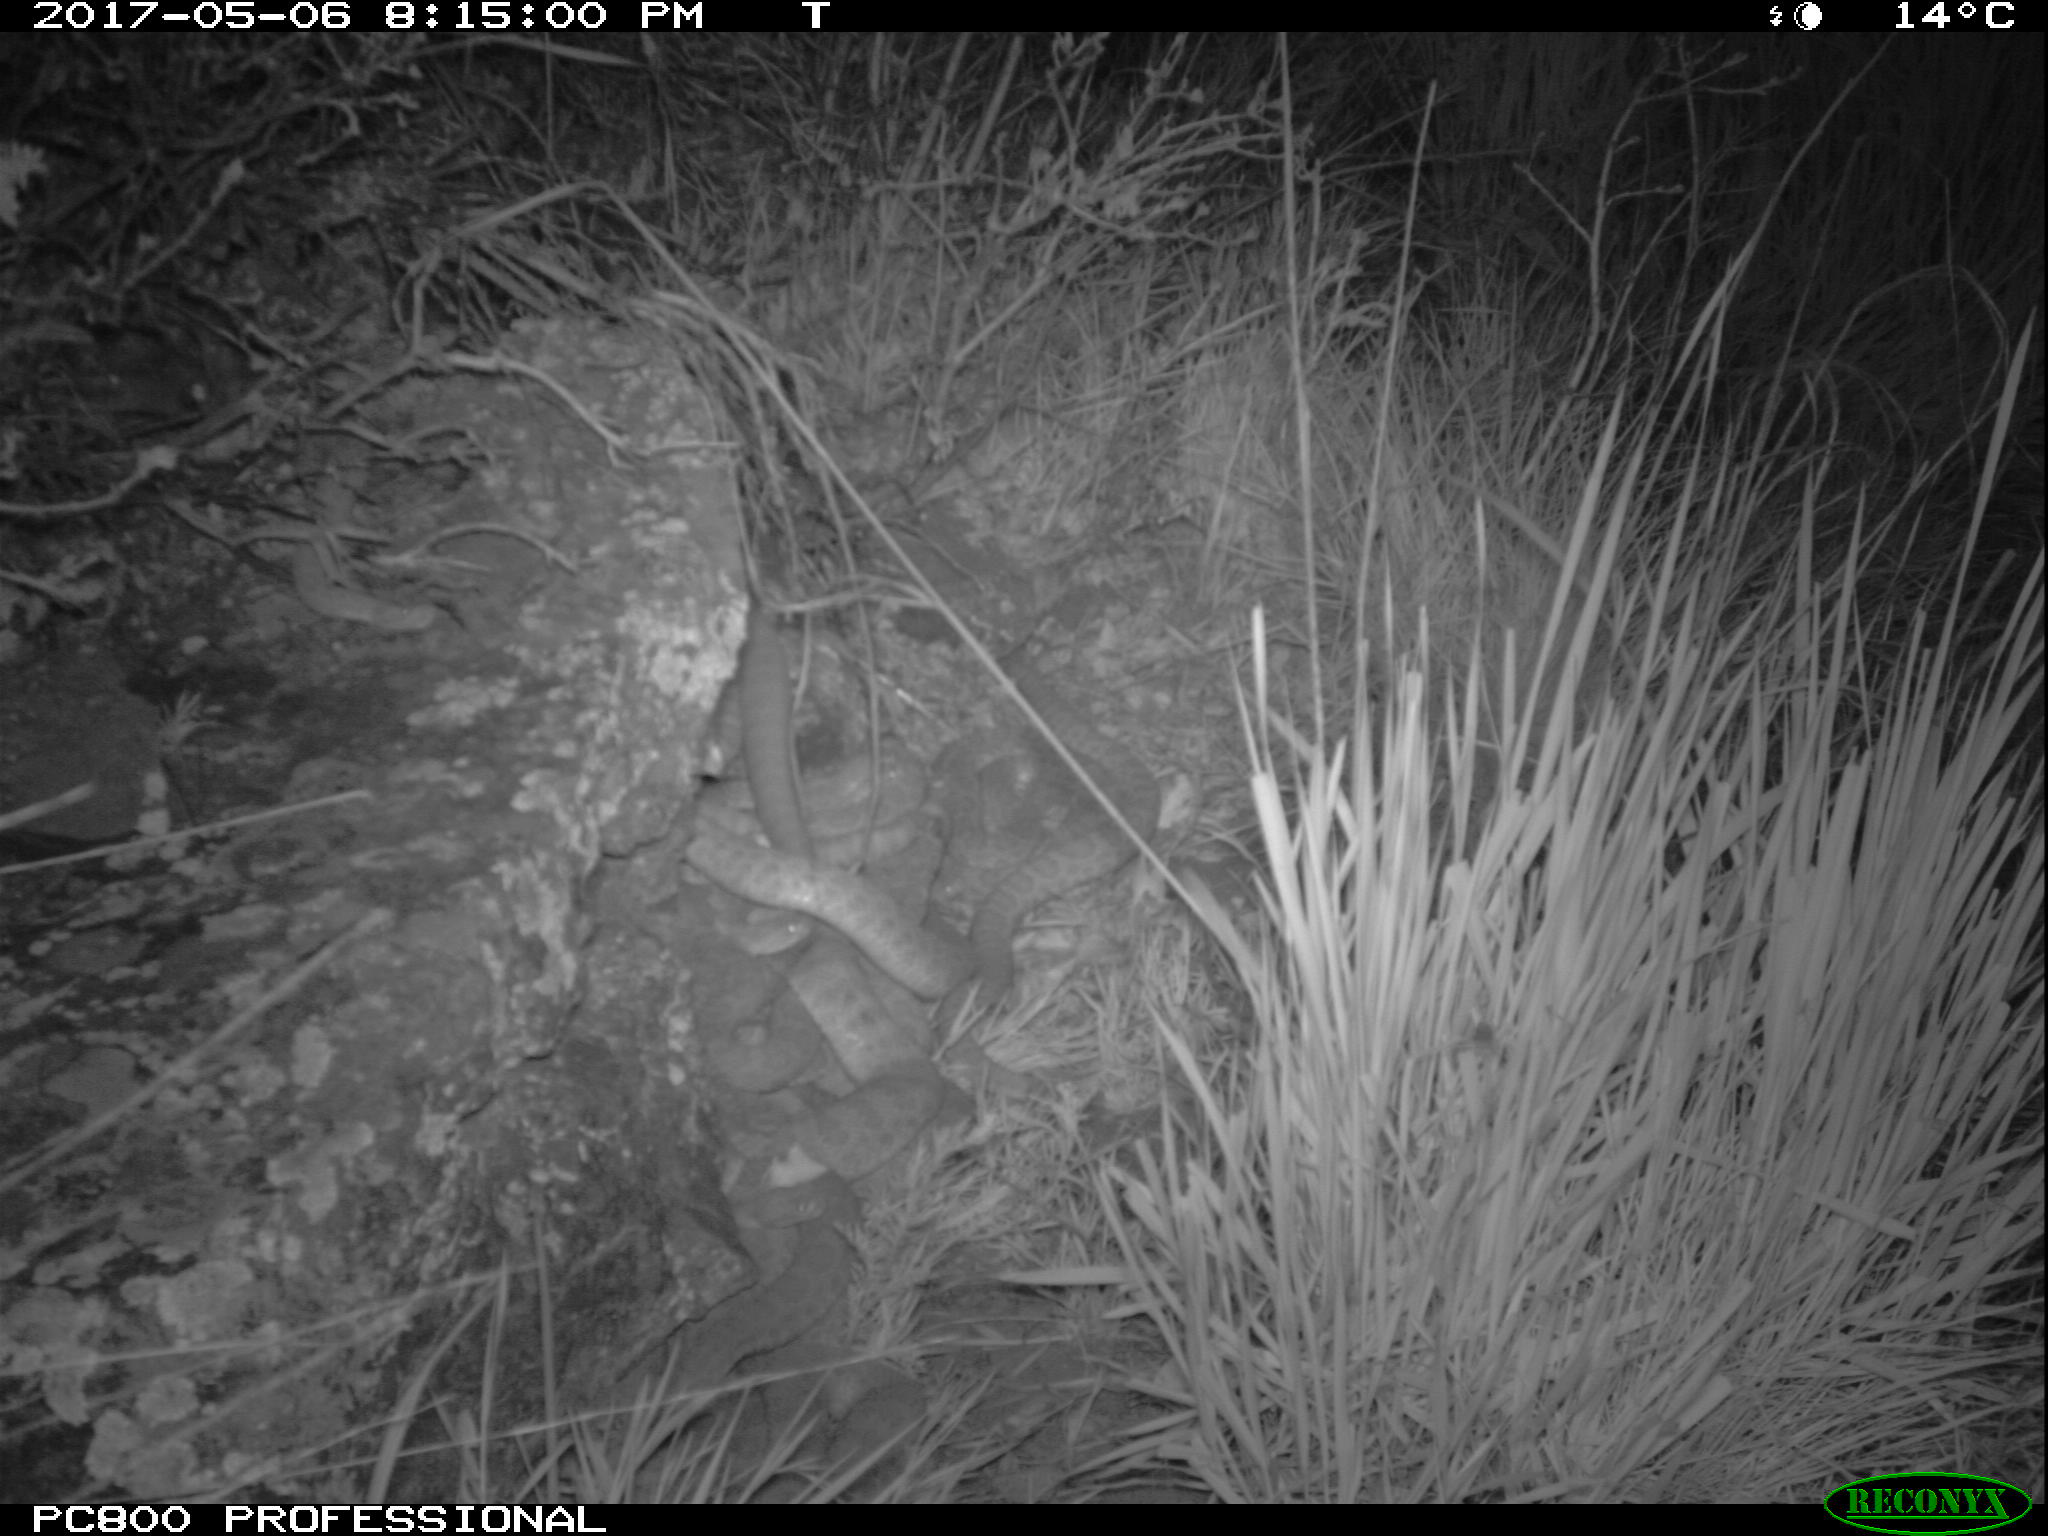snake: (627, 1181, 893, 1430), (689, 958, 977, 1158), (927, 715, 1164, 949), (672, 808, 972, 987), (731, 624, 827, 950), (276, 531, 453, 641)
